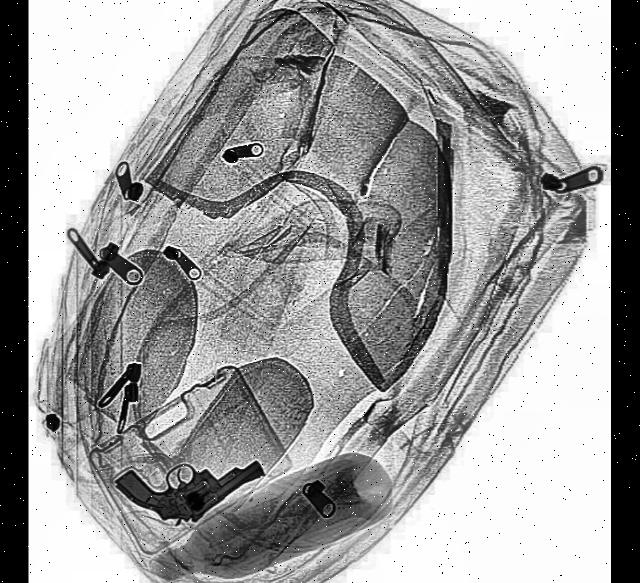Gun: (114, 400, 265, 555)
